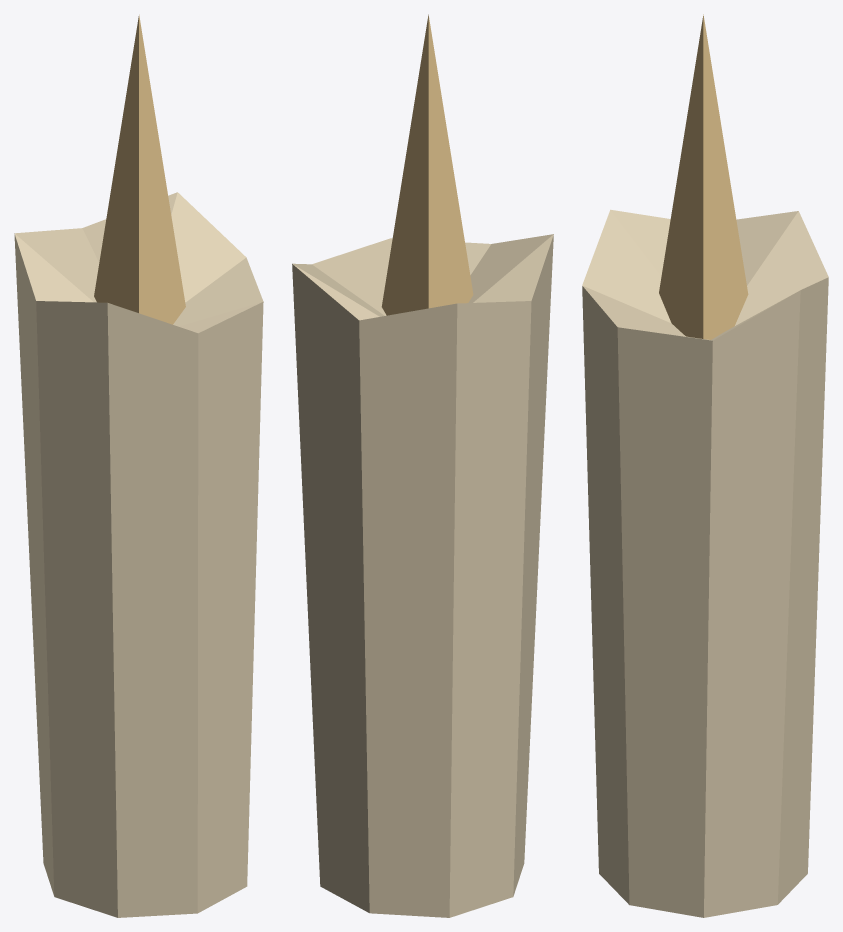
The model's file is Candle_1.fbx.
3 views of the same model, side by side, from view 1: azimuth 30°, elevation 25°; view 2: azimuth 150°, elevation 25°; view 3: azimuth 270°, elevation 25° (orthographic).
Parts seen in each view (by area): view 1: polySurface1502; view 2: polySurface1502; view 3: polySurface1502.
Part boxes in pixels (x1=…): polySurface1502: x1=14, y1=14, x2=263, y2=917; polySurface1502: x1=292, y1=14, x2=553, y2=917; polySurface1502: x1=582, y1=14, x2=828, y2=917.
Size of the model in its own units: 7.35 by 28.17 by 7.35.
